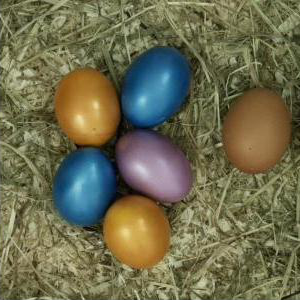egg: (222, 87, 294, 174), (122, 46, 191, 130), (114, 131, 193, 203), (102, 194, 172, 269), (55, 69, 121, 147), (51, 147, 115, 226)
